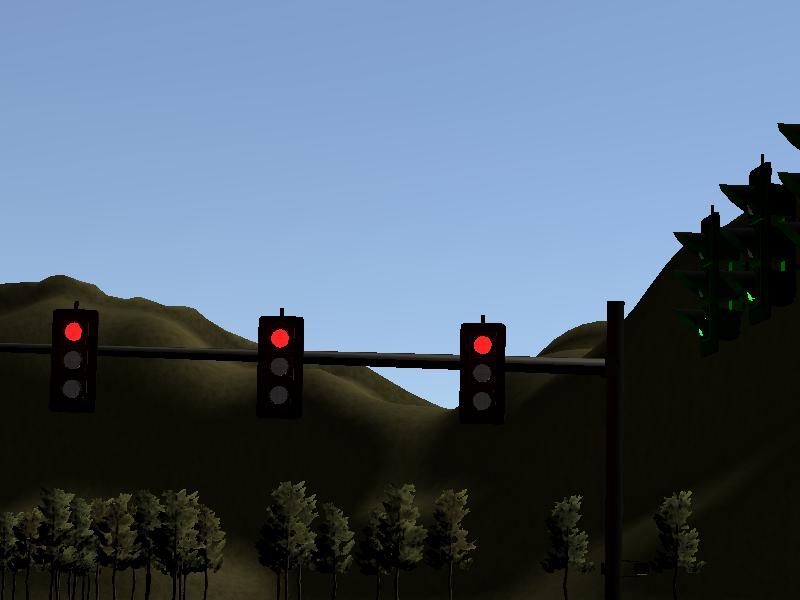red: (258, 315, 303, 419), (459, 323, 505, 420), (54, 308, 94, 411)
